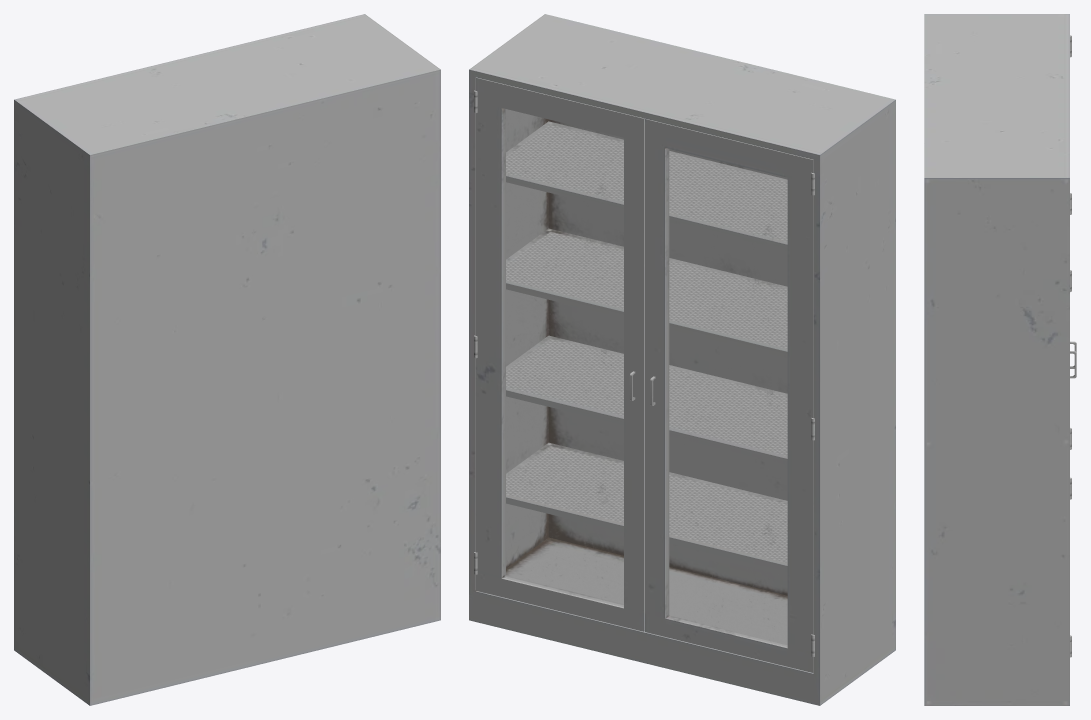
File: lab_cabinet.glb
3 views of the same model, side by side, from view 1: azimuth 30°, elevation 25°; view 2: azimuth 150°, elevation 25°; view 3: azimuth 270°, elevation 25° (orthographic). The views are drawn at different scales.
Visible parts, largest first — view 1: body; view 2: body, PART_door_r, PART_door_l; view 3: body.
Boxes of the visible parts, x1,y1,x2,y2 form: body: (14, 14, 440, 705); body: (469, 14, 895, 705); PART_door_r: (475, 77, 644, 631); PART_door_l: (645, 118, 813, 672); body: (924, 14, 1071, 705).
Size of the model in its own units: 1.2 by 1.8 by 0.4704.
2 materials, 2 textured.
